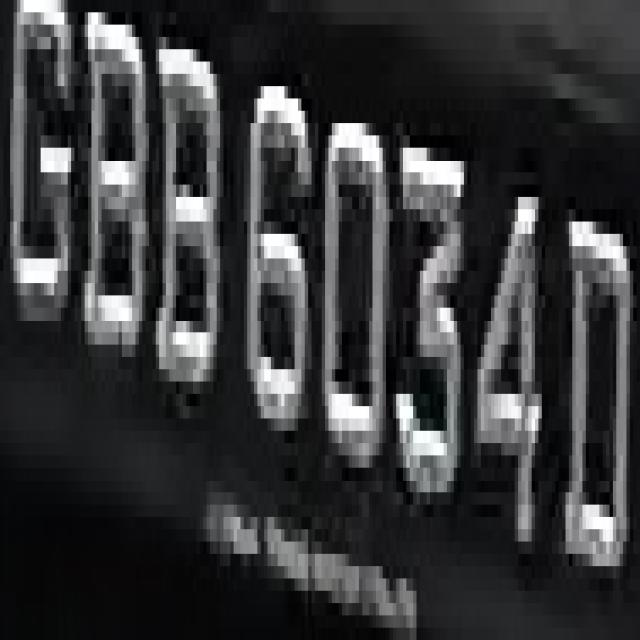0: (312, 50, 389, 492)
3: (389, 98, 474, 530)
4: (467, 123, 545, 566)
6: (234, 12, 315, 468)
B: (146, 37, 234, 418), (71, 0, 152, 382)
D: (548, 160, 636, 603)
G: (0, 0, 74, 332)
